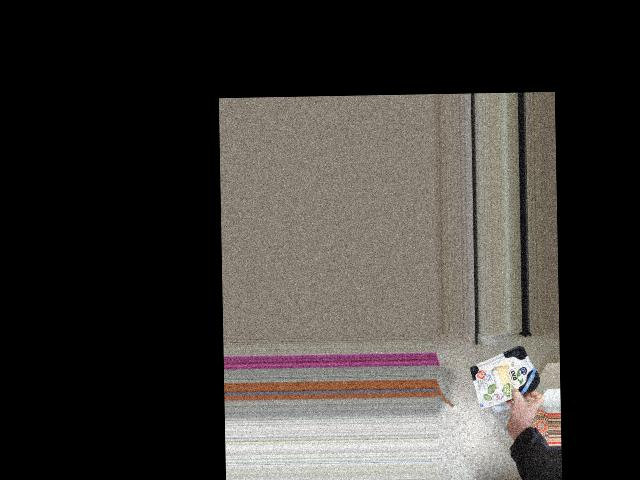cheese: (470, 350, 542, 398)
